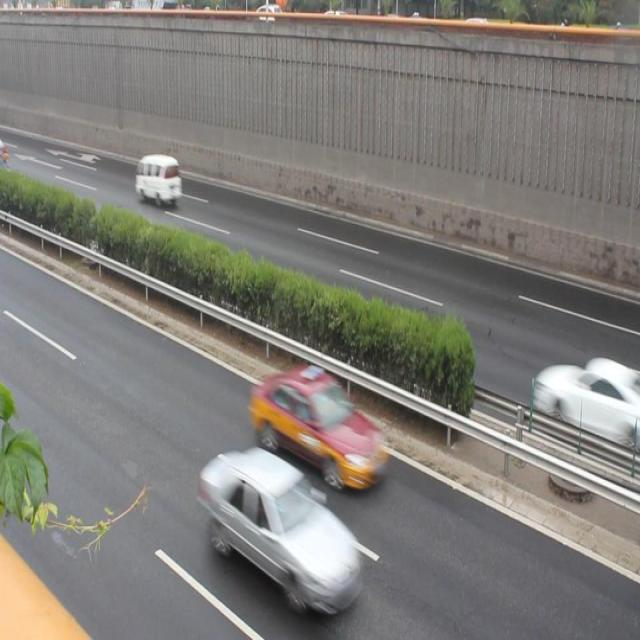car: (206, 448, 361, 601), (251, 361, 385, 486), (533, 357, 625, 444)
